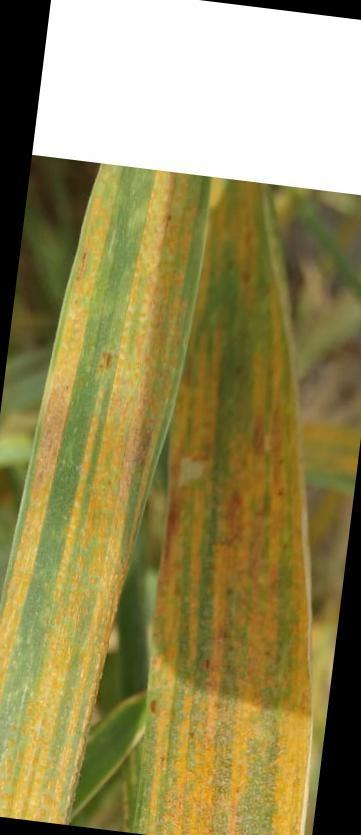Wheat: (5, 166, 200, 813), (159, 372, 290, 832)
